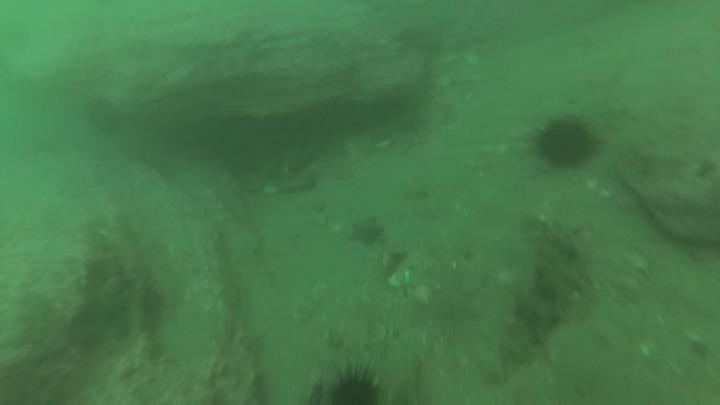echinus: (533, 113, 596, 174), (325, 366, 384, 405), (82, 95, 120, 138)
holothurian: (495, 266, 567, 380)
starfish: (346, 214, 389, 250)
